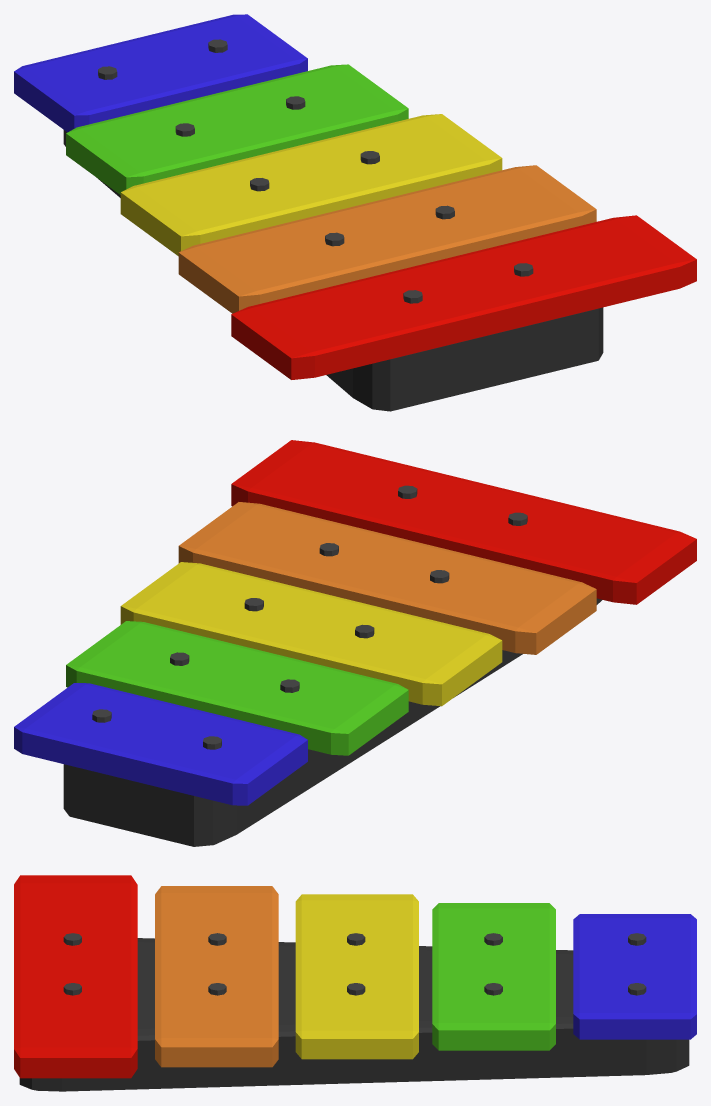
The model's file is toy_xylophone.fbx.
The picture shows the model from 3 angles, top to bottom: view 1: azimuth 30°, elevation 25°; view 2: azimuth 150°, elevation 25°; view 3: azimuth 270°, elevation 25°; orthographic projection. The views are drawn at different scales.
Visible parts, largest first — view 1: Red, Orange, Yellow, Green, Blue, Base; view 2: Red, Orange, Yellow, Green, Blue, Base; view 3: Red, Base, Orange, Yellow, Green, Blue, orange_screw, green_screw, blue_screw, red_screw, yellow_screw.
Part boxes in pixels (<box>): Red: <box>231,215,696,379</box>; Orange: <box>178,165,596,313</box>; Yellow: <box>120,114,502,256</box>; Green: <box>66,64,408,194</box>; Blue: <box>14,14,307,132</box>; Base: <box>63,130,603,411</box>; Red: <box>231,440,696,604</box>; Orange: <box>178,502,596,654</box>; Yellow: <box>120,562,502,706</box>; Green: <box>66,621,408,755</box>; Blue: <box>14,683,307,805</box>; Base: <box>63,598,602,846</box>; Red: <box>14,875,137,1078</box>; Base: <box>19,938,689,1091</box>; Orange: <box>155,886,278,1067</box>; Yellow: <box>295,894,418,1059</box>; Green: <box>432,903,555,1050</box>; Blue: <box>573,914,696,1039</box>; orange_screw: <box>208,933,226,995</box>; green_screw: <box>484,933,502,995</box>; blue_screw: <box>628,933,646,995</box>; red_screw: <box>63,933,81,995</box>; yellow_screw: <box>347,933,365,995</box>.
Size of the model in its own units: 280 by 57.97 by 442.
